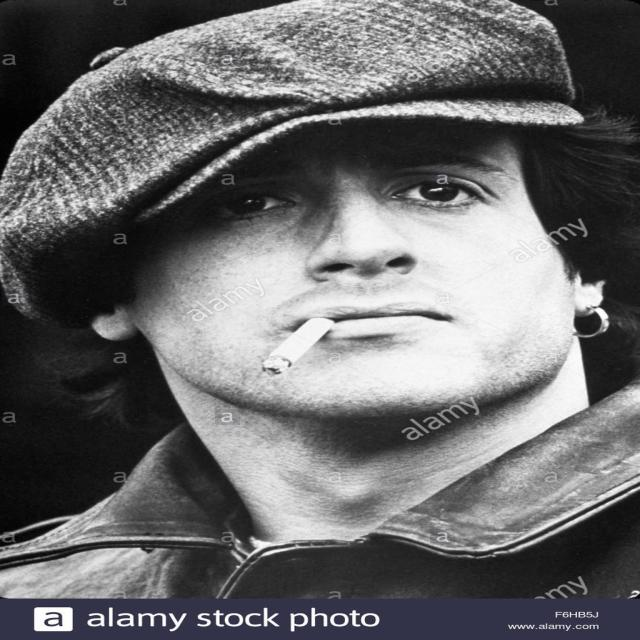smoking: (4, 4, 640, 427)
